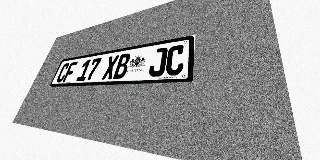1: (76, 59, 92, 81)
7: (85, 58, 102, 81)
B: (113, 53, 131, 79)
C: (164, 44, 185, 76), (55, 63, 70, 83)
F: (62, 61, 78, 82)
J: (148, 47, 168, 77)
X: (101, 55, 119, 80)
